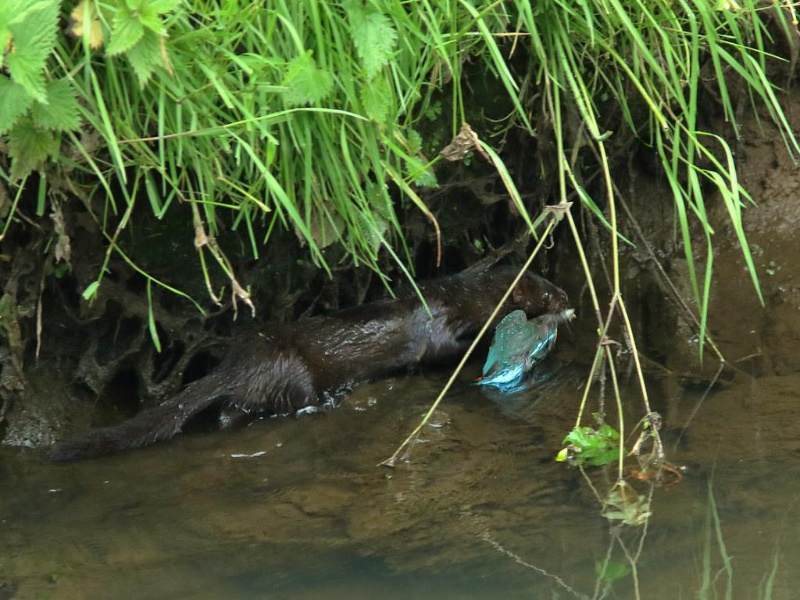minkish: (48, 267, 578, 461)
